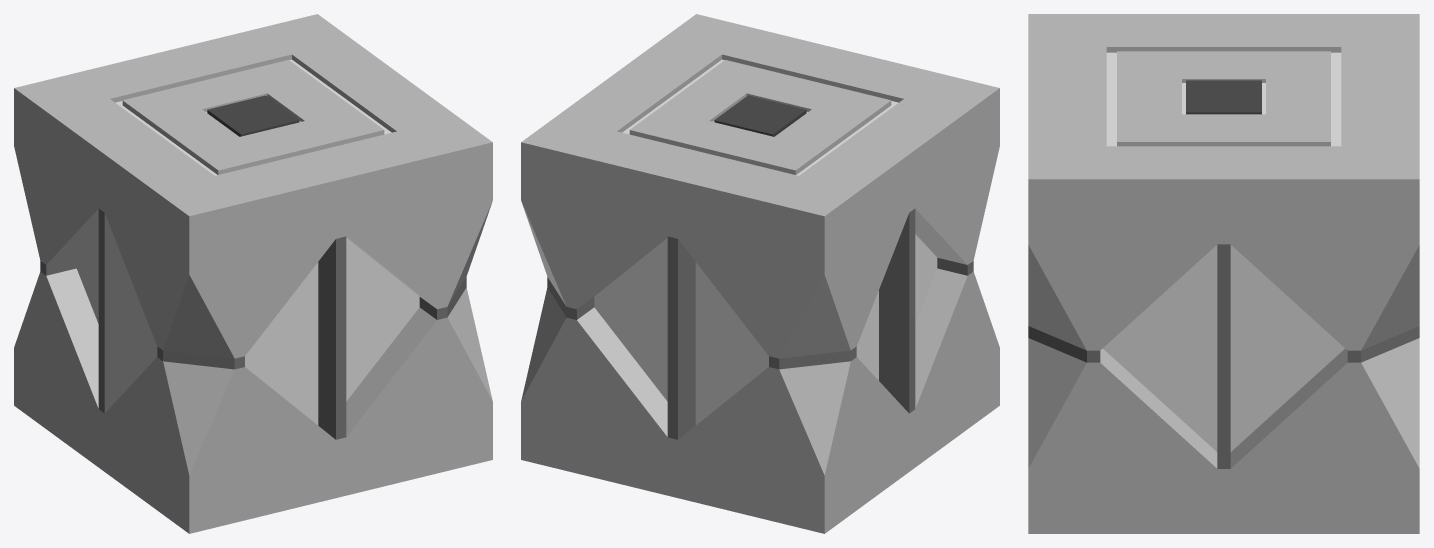
Rendered from Storage_Large.fbx.
3 views of the same model, side by side, from view 1: azimuth 30°, elevation 25°; view 2: azimuth 150°, elevation 25°; view 3: azimuth 270°, elevation 25° (orthographic). The views are drawn at different scales.
Parts seen in each view (by area): view 1: Cube; view 2: Cube; view 3: Cube.
Part boxes in pixels (<box>): Cube: <box>14,14,492,533</box>; Cube: <box>521,14,999,533</box>; Cube: <box>1028,14,1419,533</box>.
Size of the model in its own units: 195 by 195 by 195.
